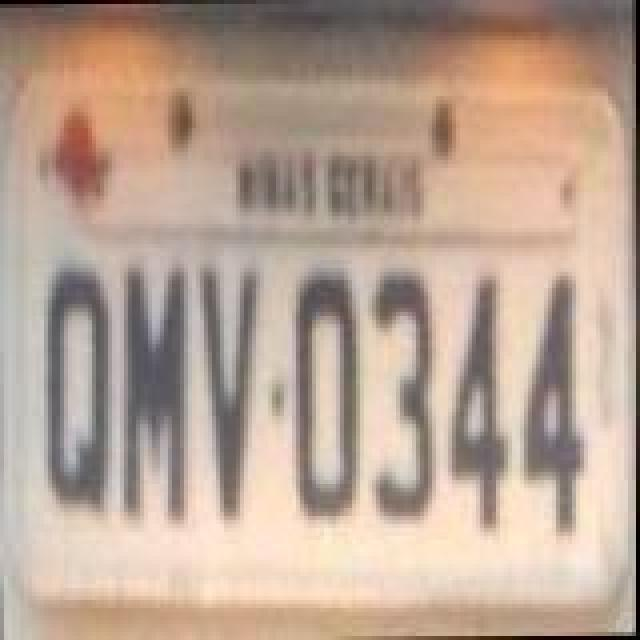3: (370, 270, 438, 526)
4: (520, 270, 584, 538), (448, 276, 512, 536)
M: (120, 260, 192, 528)
O: (292, 272, 364, 528)
Q: (44, 264, 116, 520)
V: (200, 270, 264, 518)
